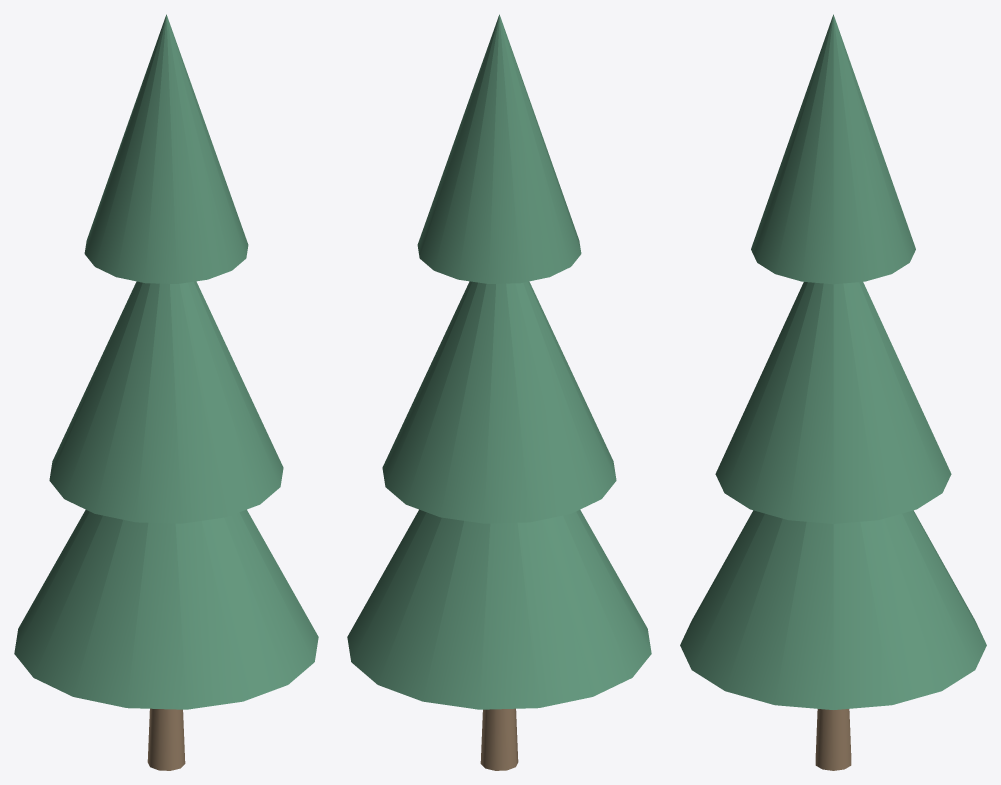
File: pine-tree.glb
3 views of the same model, side by side, from view 1: azimuth 30°, elevation 25°; view 2: azimuth 150°, elevation 25°; view 3: azimuth 270°, elevation 25° (orthographic).
Visible parts, largest first — view 1: Tier (×3), Trunk; view 2: Tier (×3), Trunk; view 3: Tier (×3), Trunk.
Boxes of the visible parts, box(x1,y1,x2,y2) form: Tier (×3): box(14, 14, 318, 709); Trunk: box(147, 708, 185, 770); Tier (×3): box(347, 14, 651, 709); Trunk: box(480, 708, 518, 770); Tier (×3): box(680, 14, 986, 709); Trunk: box(815, 709, 851, 770).
Size of the model in its own units: 2.6 by 7 by 2.6.
